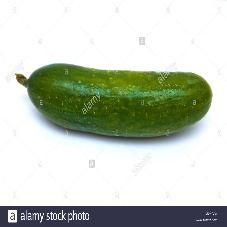cucumber: (27, 62, 212, 138)
